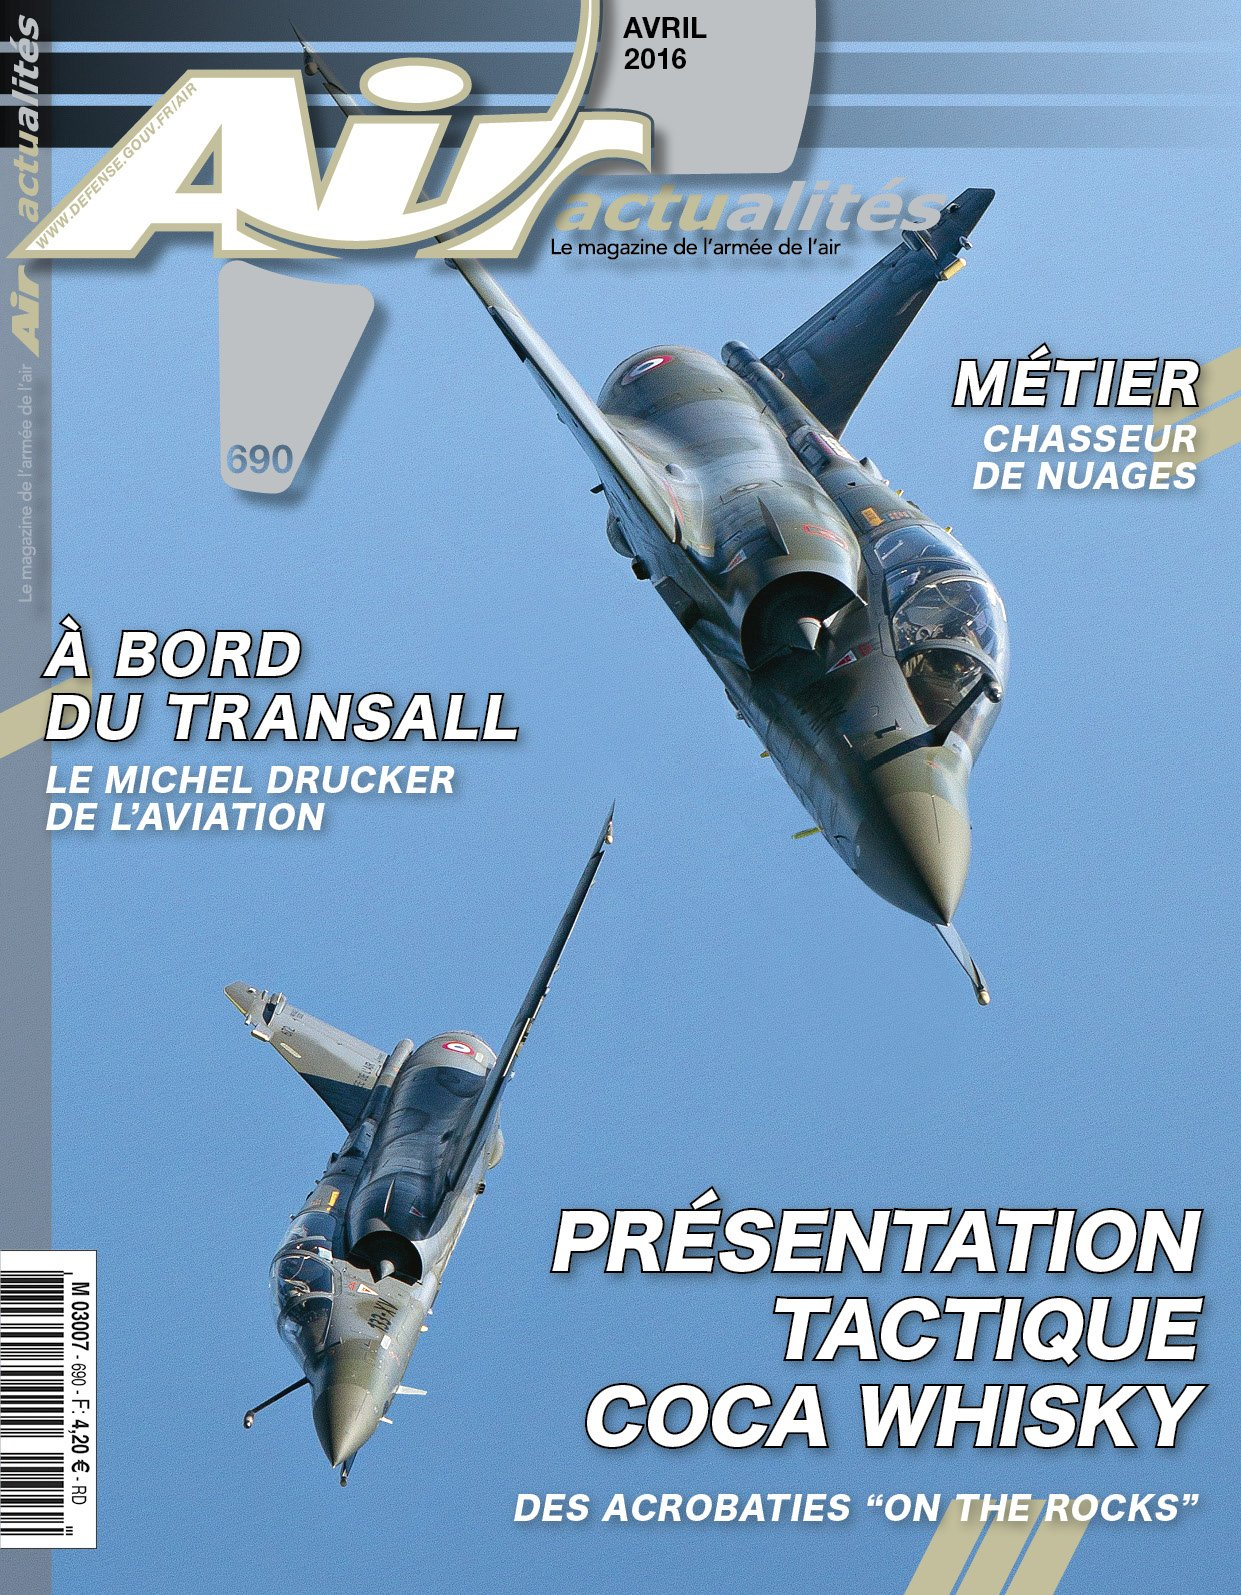Mirage2000: (287, 17, 1011, 1007), (221, 796, 616, 1488)
